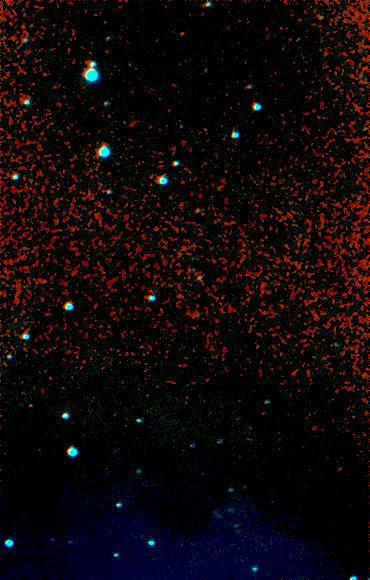star: (169, 22, 199, 52)
